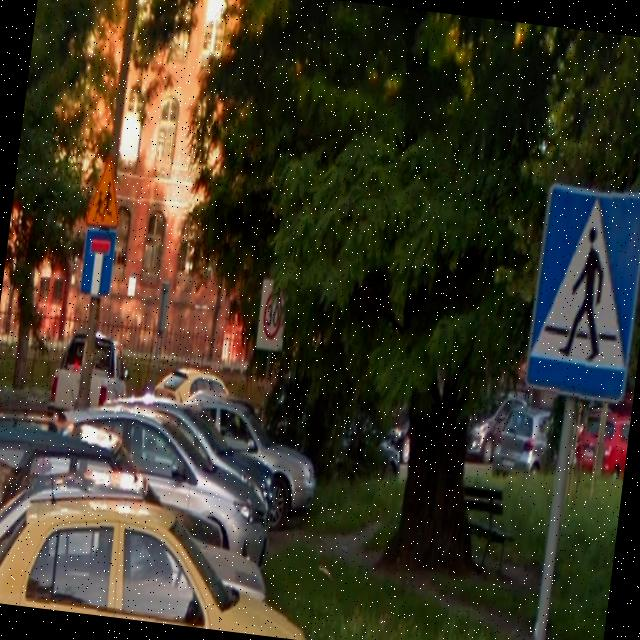Dzieci: (83, 152, 125, 234)
Przejscie dla pieszych: (522, 173, 640, 400)
